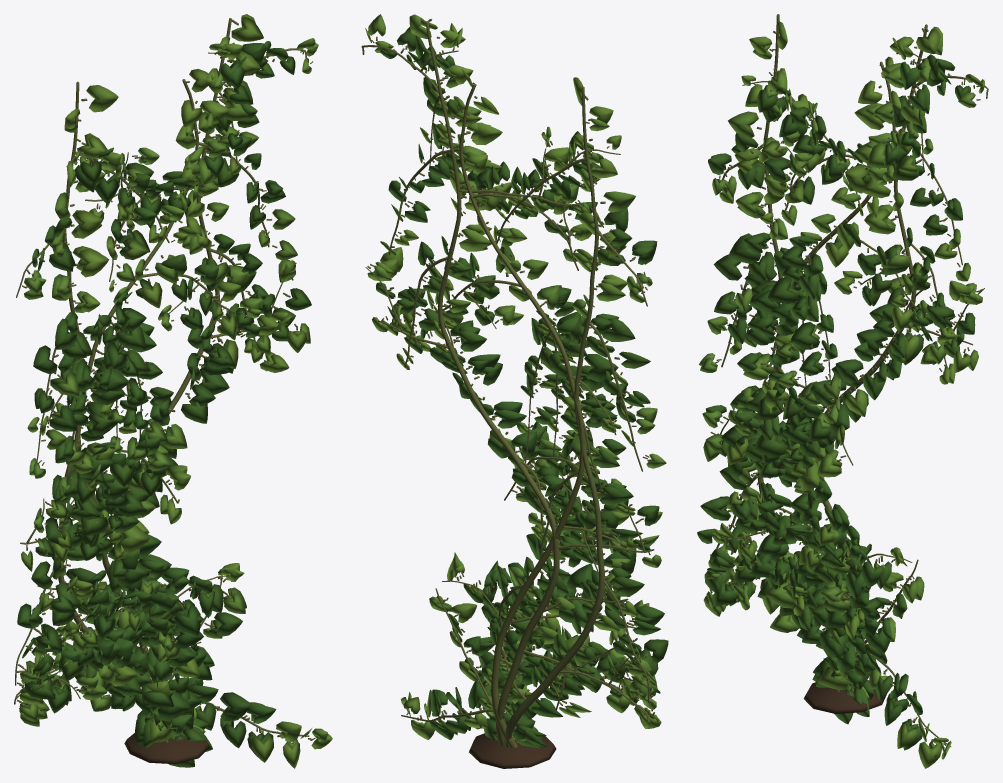
Rendered from climber_ivy_40.glb.
3 views of the same model, side by side, from view 1: azimuth 30°, elevation 25°; view 2: azimuth 150°, elevation 25°; view 3: azimuth 330°, elevation 25° (orthographic). The views are drawn at different scales.
Visible parts, largest first — view 1: Sammel Pflanze, Sammel Putz; view 2: Sammel Pflanze, Sammel Putz; view 3: Sammel Pflanze, Sammel Putz.
Boxes of the visible parts, x1,y1,x2,y2 form: Sammel Pflanze: (17, 14, 332, 768); Sammel Putz: (14, 18, 315, 764); Sammel Pflanze: (365, 14, 668, 748); Sammel Putz: (361, 19, 655, 768); Sammel Pflanze: (697, 21, 984, 768); Sammel Putz: (709, 14, 988, 748).
Bounding box in the file's own units: 1.35 × 3.21 × 0.4027.
